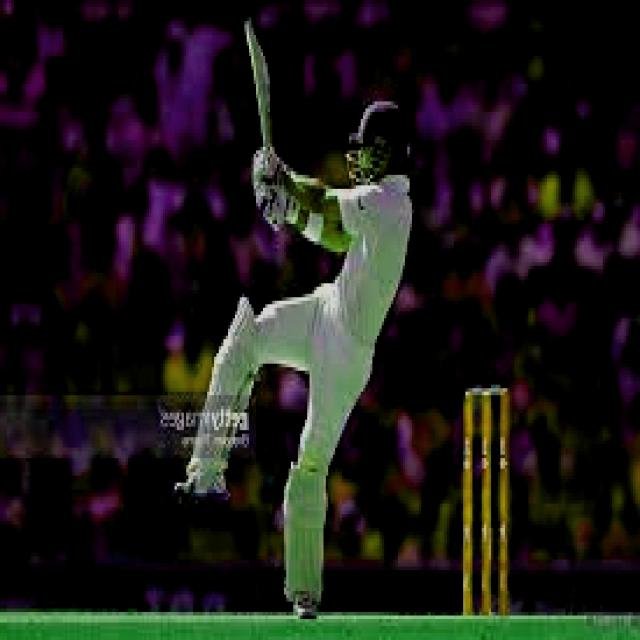toe: (243, 24, 268, 73)
